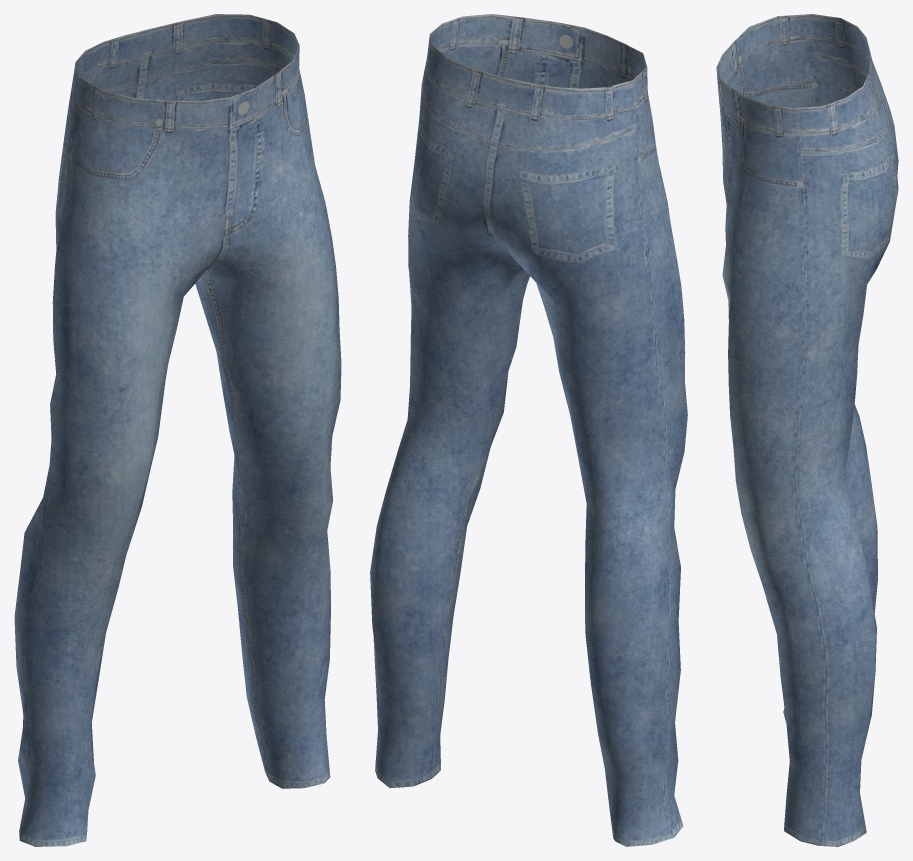
The model's file is MalePants2-1.glb.
3 renders of one model, left to right at view 1: azimuth 30°, elevation 25°; view 2: azimuth 150°, elevation 25°; view 3: azimuth 270°, elevation 25°, orthographic. The views are drawn at different scales.
Parts seen in each view (by area): view 1: Pants2; view 2: Pants2; view 3: Pants2.
Part boxes in pixels (left/top/right/bottom): Pants2: left=14, top=14, right=341, bottom=846; Pants2: left=370, top=14, right=687, bottom=846; Pants2: left=716, top=14, right=898, bottom=846.
Size of the model in its own units: 0.4359 by 1.05 by 0.2401.
1 material, 1 textured.
